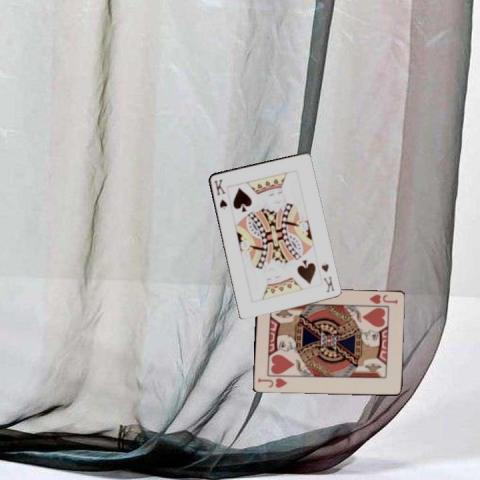Jh: (363, 291, 399, 308), (255, 376, 288, 390)
Ks: (211, 176, 228, 211), (318, 260, 335, 294)
